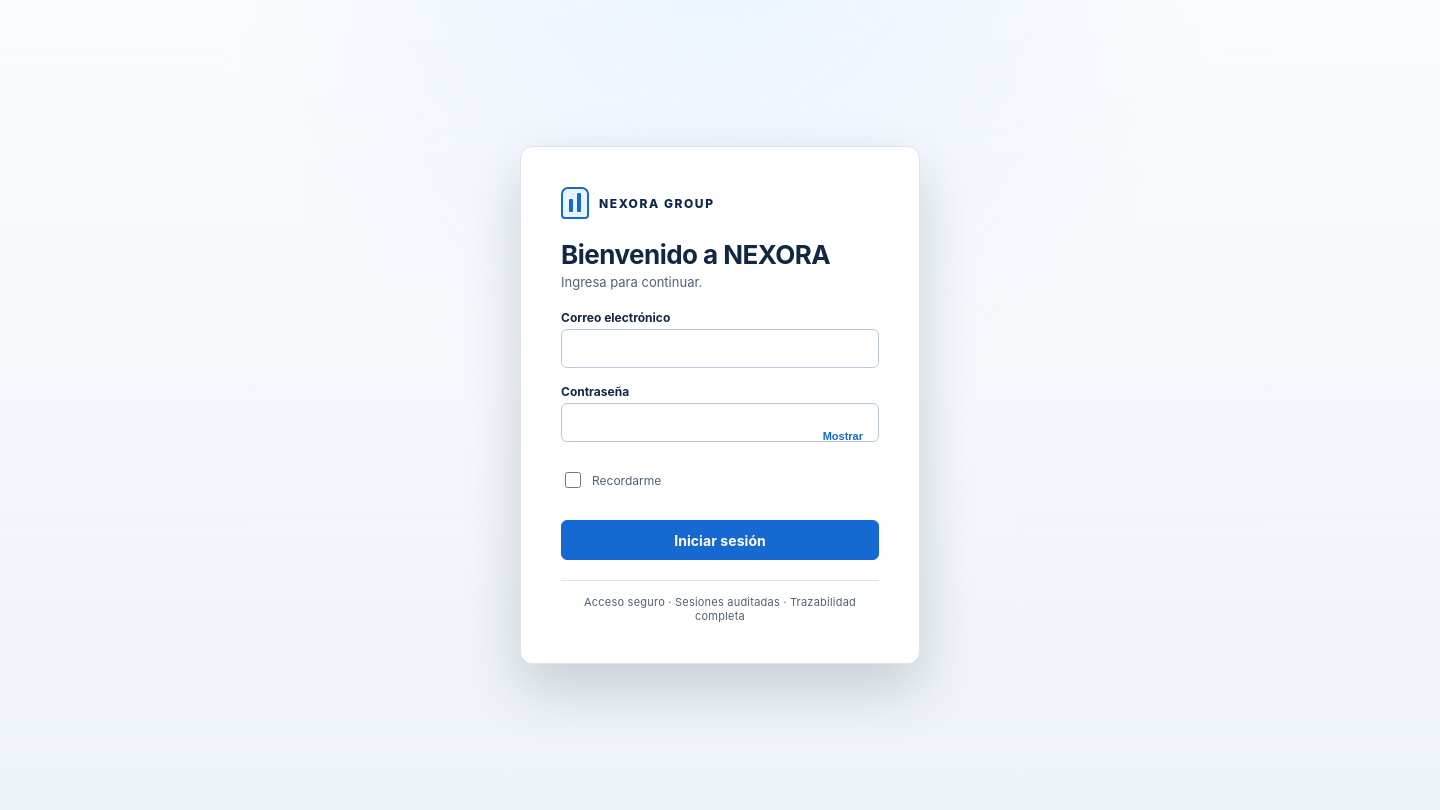
Test case: LoginPage › shows validation errors for empty submit
Check: the heading "Bienvenido a NEXORA" is shown, box x1=561 y1=239 x2=830 y2=270
What coordinates should you click on to do the following:
click the button "Iniciar sesión"
I would click on:
 (720, 540)
Its box is x1=561 y1=520 x2=879 y2=560.
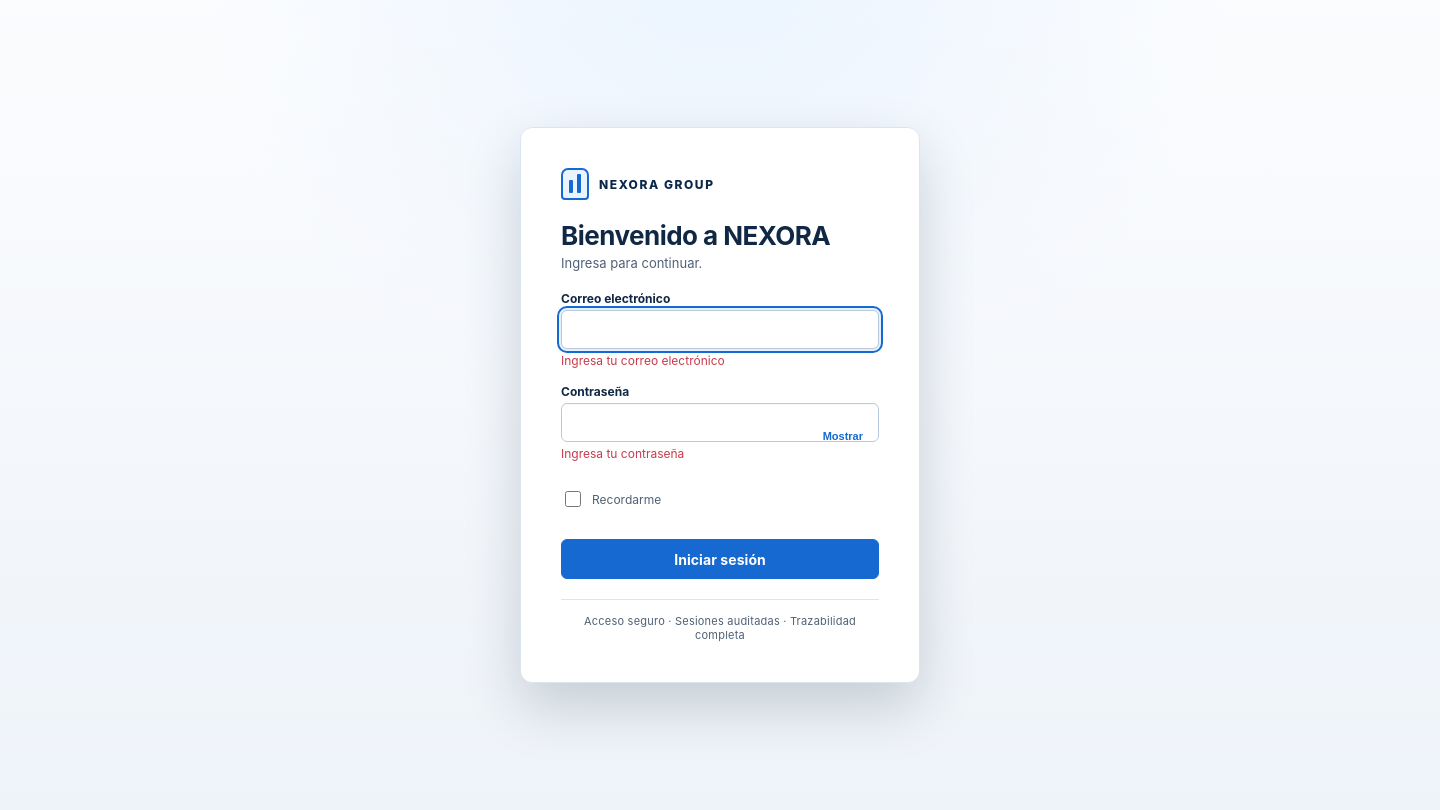
Check: the text "Ingresa tu correo electrónico" is shown, box x1=561 y1=353 x2=725 y2=368
